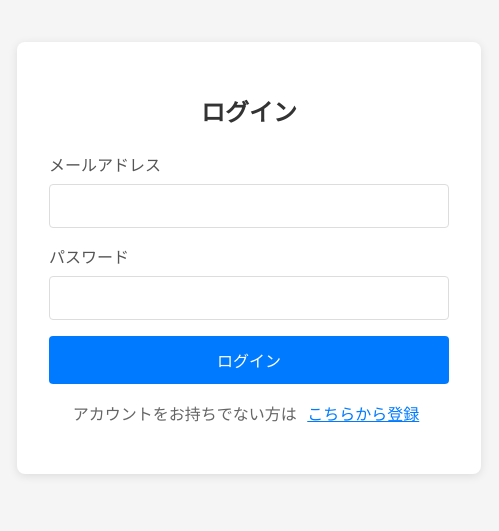
it: Login › shows error message on login failure
Type "test@example.com" into the field labelled "メールアドレス" at (249, 206), box [49,184,449,228]
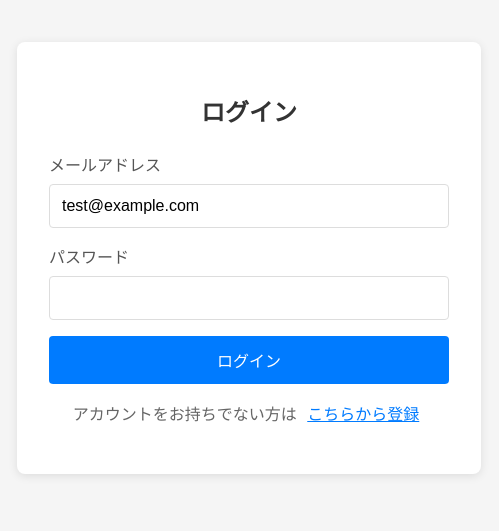
Type "wrongpassword" into the password field labelled "パスワード" at (249, 298), box [49,276,449,320]
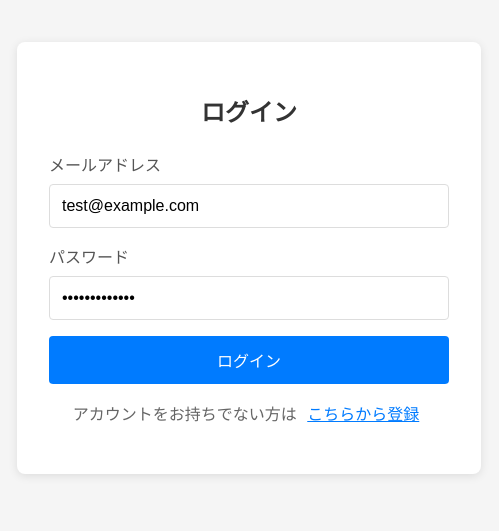
Click the button "ログイン" at (249, 360), box [49,336,449,384]
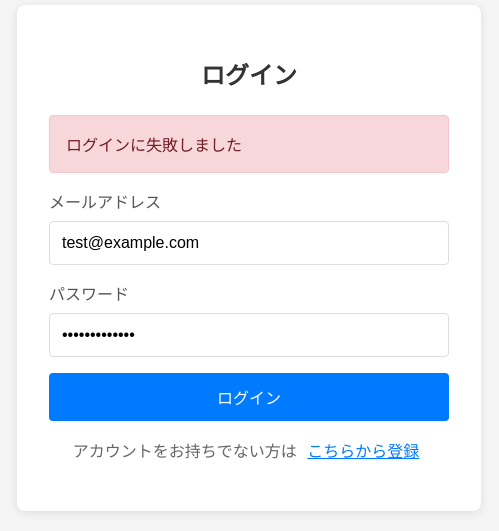
Expected: the text "ログインに失敗しました" is shown, [49,116,449,174]
